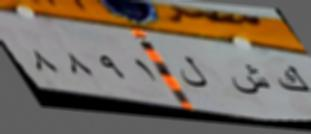1: (132, 55, 158, 90)
8: (32, 42, 58, 80), (65, 48, 92, 79)
9: (98, 50, 127, 84)
kaaf: (274, 58, 311, 101)
laam: (176, 52, 208, 94)
sheen: (228, 61, 269, 104)
